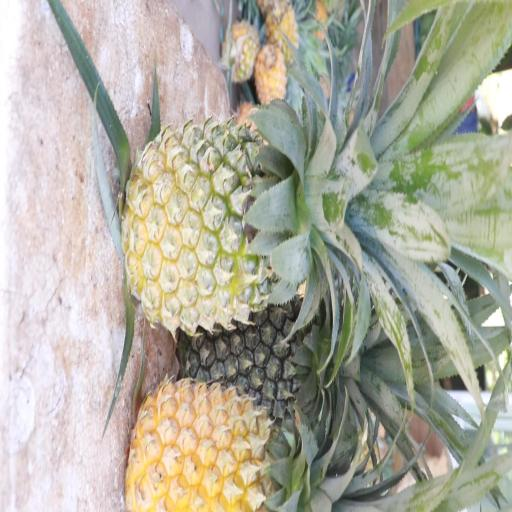------------------------------: (126, 122, 322, 326)
Pineapple - v8 v1: (132, 386, 334, 512), (256, 36, 290, 108)
